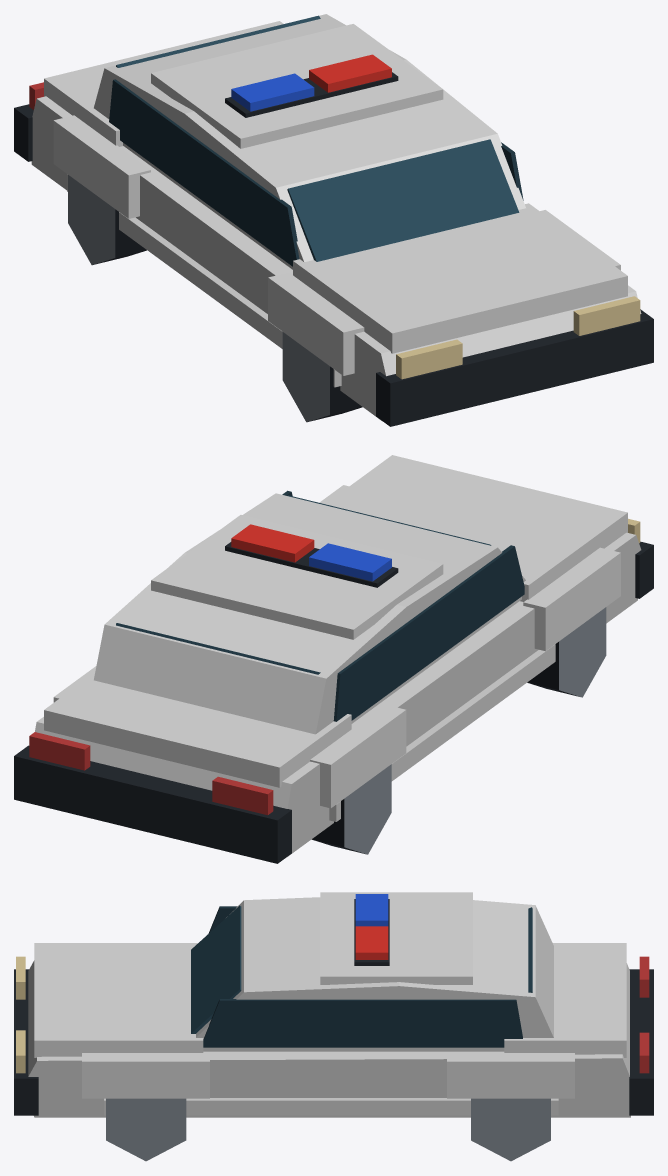
Rendered from car_police_lod1.glb.
3 views of the same model, one above another, from view 1: azimuth 30°, elevation 25°; view 2: azimuth 150°, elevation 25°; view 3: azimuth 270°, elevation 25° (orthographic). The views are drawn at different scales.
Visible parts, largest first — view 1: paint, trim; view 2: paint, trim; view 3: paint, trim.
Part boxes in pixels (x1=…): paint: x1=31, y1=14, x2=641, y2=420; trim: x1=14, y1=15, x2=653, y2=426; paint: x1=35, y1=455, x2=641, y2=856; trim: x1=14, y1=490, x2=653, y2=863; paint: x1=28, y1=892, x2=630, y2=1117; trim: x1=14, y1=894, x2=653, y2=1161.
Bounding box in the file's own units: 2 × 1.47 × 4.7.
